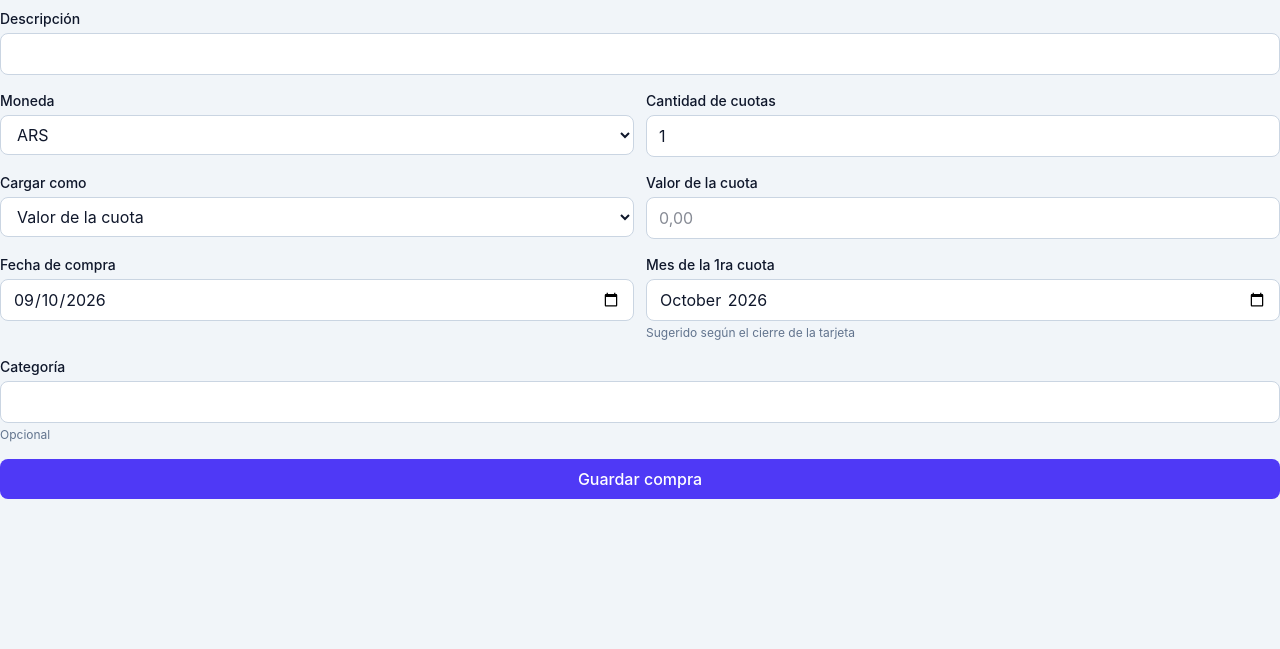
it: PurchaseForm › si guardar falla avisa y no sigue
Type "Tele" into the field labelled "Descripción" at (640, 54), box [0,33,1279,75]
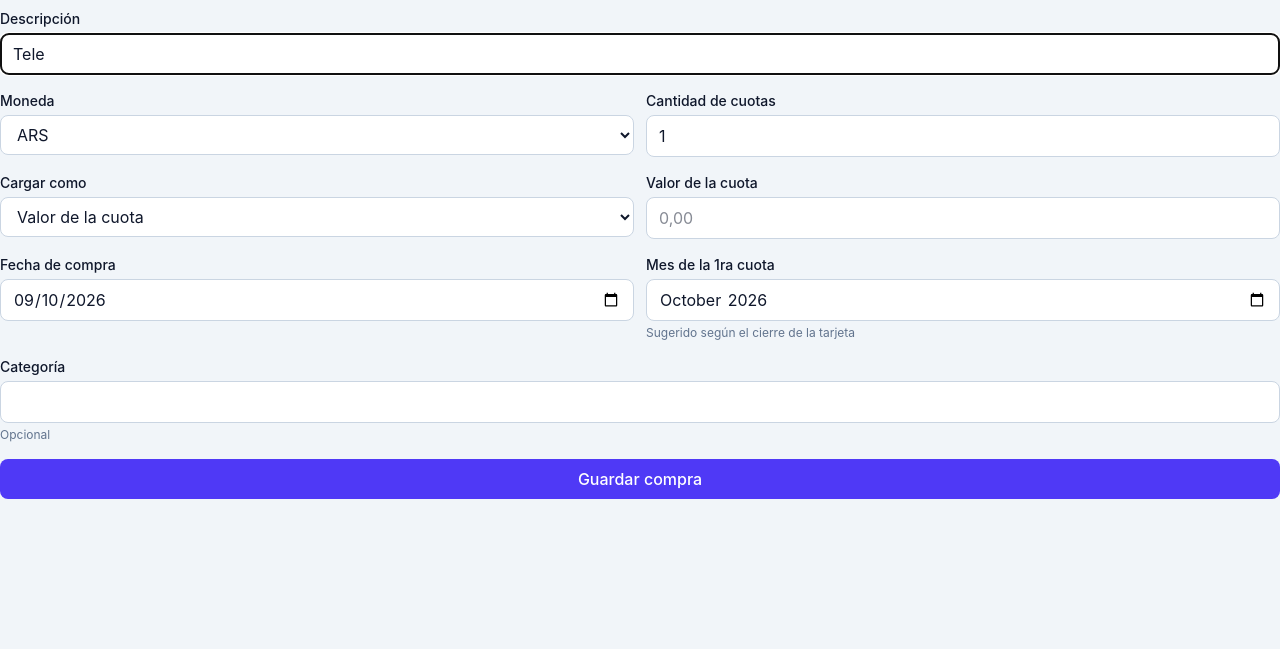
Type "1000" into the field labelled "Valor de la cuota" at (963, 218), box [646,197,1279,239]
(page scrolled)
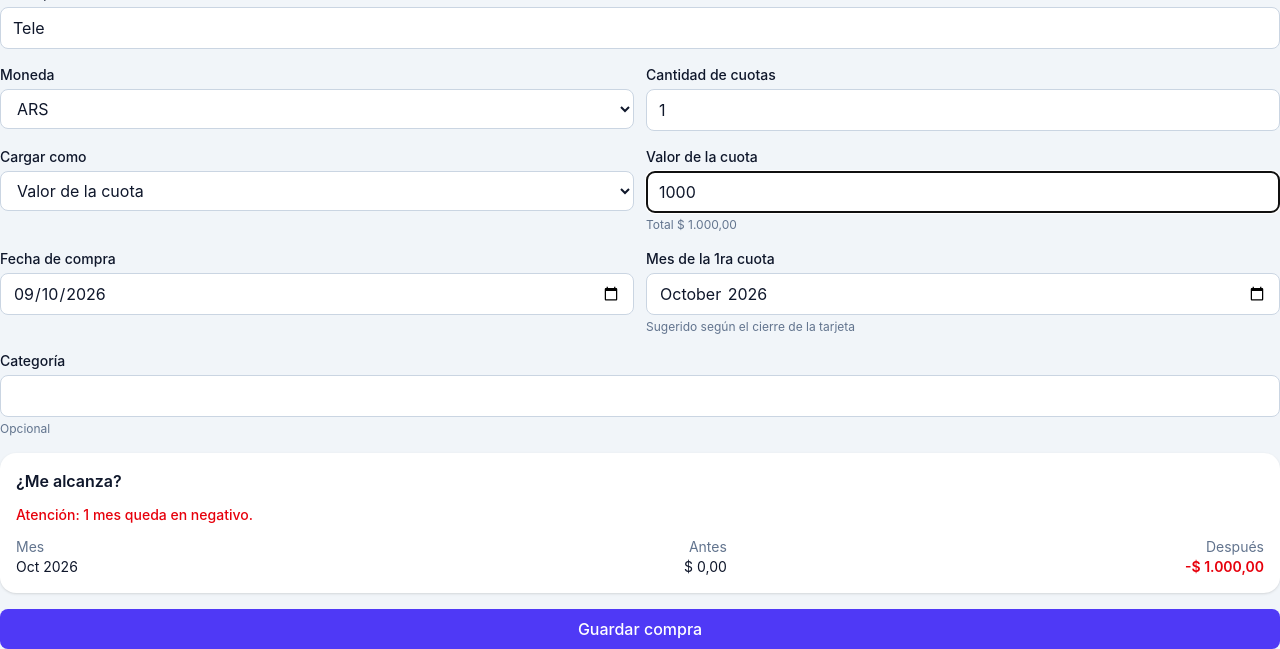
Click the button "Guardar compra" at (640, 629), box [0,609,1279,648]
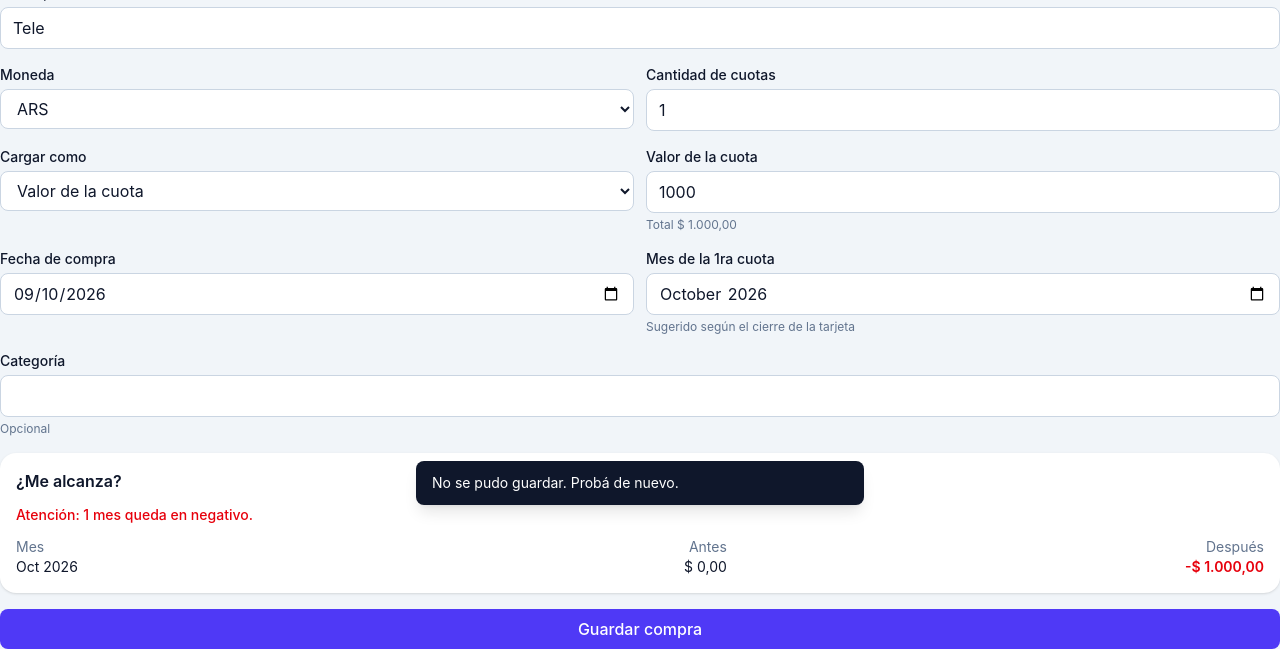
Expected: the text "No se pudo guardar. Probá de nuevo." is shown, [416,461,864,505]
